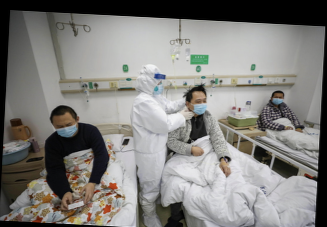with_mask: (52, 119, 77, 138), (191, 96, 208, 117), (153, 80, 165, 97), (273, 94, 284, 105)
